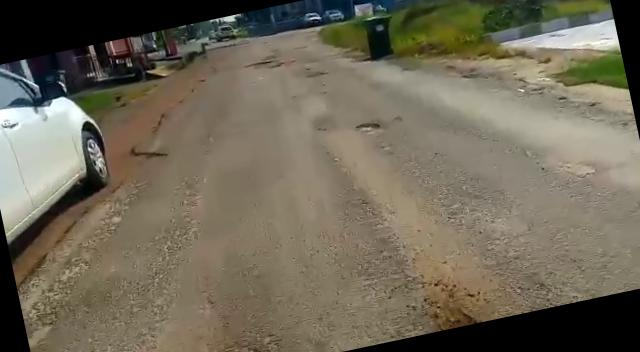pothole: (353, 116, 389, 138)
